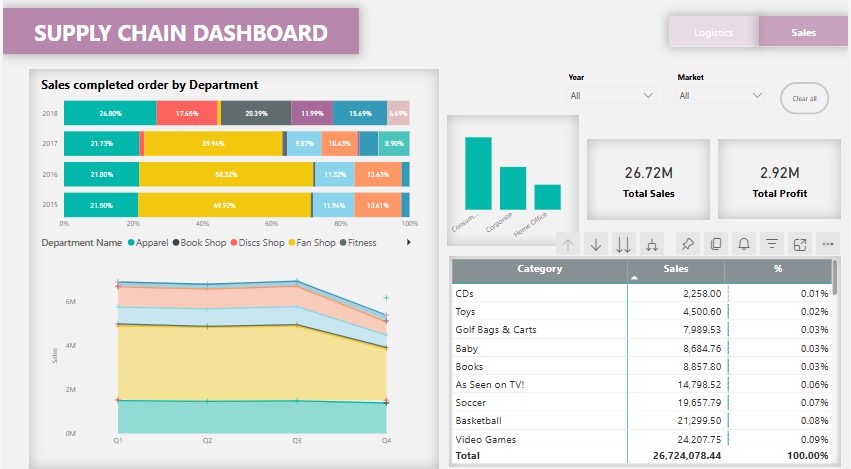

Layout of this report page (visuals, bound fields, positions):
{"tool":"powerbi","page":{"name":"sales","canvas":[1300,750],"ordinal":1},"visuals":[{"type":"shape","title":"Title","box":[0,15.9,547.6,71.4],"z":0},{"type":"actionButton","title":"Logistics","box":[1024.1,27.6,137.9,46.6],"z":0,"group":"g3"},{"type":"card","title":"On time","fields":{"Values":["Measure.profit_sum"]},"box":[1100.2,251.4,190.5,123],"z":0,"group":"g2"},{"type":"group","id":"g1","title":"Active button","box":[988,16,156,48],"z":1000},{"type":"actionButton","title":"Sales","box":[1161.9,27.6,137.9,46.6],"z":1000,"group":"g4"},{"type":"actionButton","title":"Sales","box":[1162,27.6,137.9,46.6],"z":1000,"group":"g3"},{"type":"card","title":"total","fields":{"Values":["Measure.Sales_completed_order"]},"box":[898.6,251.6,190.5,123.8],"z":1000,"group":"g2"},{"type":"group","id":"g2","title":"Group 1","box":[898.6,251.4,391.4,124.3],"z":3000},{"type":"shape","box":[39.7,108.6,631,615.5],"z":4000},{"type":"clusteredColumnChart","fields":{"Category":["DataCo_edited3.Segment"],"Y":["Measure.count_completed"]},"box":[682.8,179.3,203.4,201.7],"z":5000},{"type":"stackedAreaChart","fields":{"Category":["DATE_TABLE.QTR","DATE_TABLE.Month"],"Y":["Measure.Sales_completed_order"],"Series":["DataCo_edited3.Department Name"]},"box":[70.8,416.7,579.2,281.9],"z":6000},{"type":"pivotTable","fields":{"Rows":["DataCo_edited3.Category","DataCo_edited3.Product Name"],"Values":["Measure.Sales_completed_order","Divide(Measure.Sales_completed_order, ScopedEval(Measure.Sales_completed_order, []))"]},"box":[686.2,396.6,603.4,324.1],"z":7000},{"type":"hundredPercentStackedBarChart","title":"Sales completed order by Department","fields":{"Y":["Measure.Sales_completed_order"],"Category":["DATE_TABLE.Year"],"Series":["DataCo_edited3.Department Name"]},"box":[53.4,120.7,589.7,275.9],"z":8000},{"type":"card","fields":{"Values":["Measure.Blank_charts"]},"box":[755.6,503.7,494.4,151.9],"z":9000},{"type":"card","fields":{"Values":["Measure.Blank_charts"]},"box":[113,205.6,498.1,150],"z":10000},{"type":"card","fields":{"Values":["Measure.Blank_charts"]},"box":[70.4,481.5,583.3,174.1],"z":11000},{"type":"group","id":"g3","title":"inactive","box":[1024.1,27.6,275.9,46.6],"z":12000},{"type":"group","id":"g4","title":"active","box":[1024,27.6,275.9,46.6],"z":13000},{"type":"slicer","fields":{"Values":["DATE_TABLE.Year"]},"box":[987.1,164.3,157.1,82.9],"z":14000},{"type":"slicer","fields":{"Values":["DataCo_edited3.Market"]},"box":[1024.3,97.1,158.6,82.9],"z":15000},{"type":"actionButton","box":[1194.8,129.3,75.9,50],"z":16000},{"type":"slicer","fields":{"Values":["DataCo_edited3.purchase country"]},"box":[874.3,97.1,150,61.4],"z":16001}]}

Visuals, with their boxes on the page's 1300x750 design canvas (x1, y1, x2, y2). These are canvas units, not pixel positions in the 851x469 screenshot, which may show the page scaled, cropped or inside an application window:
"Title" shape: 0 16 548 87
"Logistics" actionButton: 1024 28 1162 74
"On time" card: 1100 251 1291 374
"Active button" group: 988 16 1144 64
"Sales" actionButton: 1162 28 1300 74
"Sales" actionButton: 1162 28 1300 74
"total" card: 899 252 1089 375
"Group 1" group: 899 251 1290 376
shape: 40 109 671 724
clusteredColumnChart - DataCo_edited3.Segment x Measure.count_completed: 683 179 886 381
stackedAreaChart - DATE_TABLE.QTR x DATE_TABLE.Month: 71 417 650 699
pivotTable - DataCo_edited3.Category x DataCo_edited3.Product Name: 686 397 1290 721
"Sales completed order by Department" hundredPercentStackedBarChart: 53 121 643 397
card - Measure.Blank_charts: 756 504 1250 656
card - Measure.Blank_charts: 113 206 611 356
card - Measure.Blank_charts: 70 482 654 656
"inactive" group: 1024 28 1300 74
"active" group: 1024 28 1300 74
slicer - DATE_TABLE.Year: 987 164 1144 247
slicer - DataCo_edited3.Market: 1024 97 1183 180
actionButton: 1195 129 1271 179
slicer - DataCo_edited3.purchase country: 874 97 1024 158
